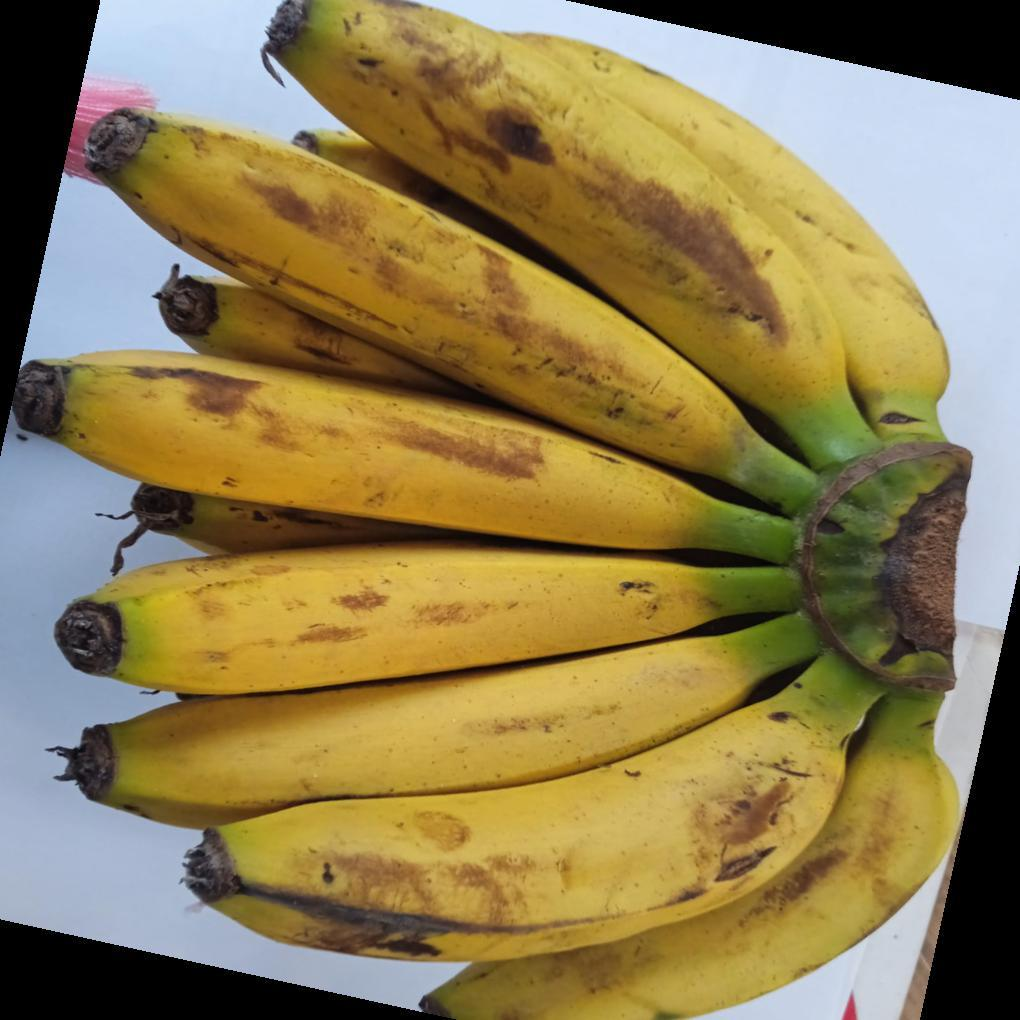Banana Ripe: (22, 221, 903, 929), (33, 60, 819, 691), (82, 613, 983, 1020), (266, 0, 992, 496)
